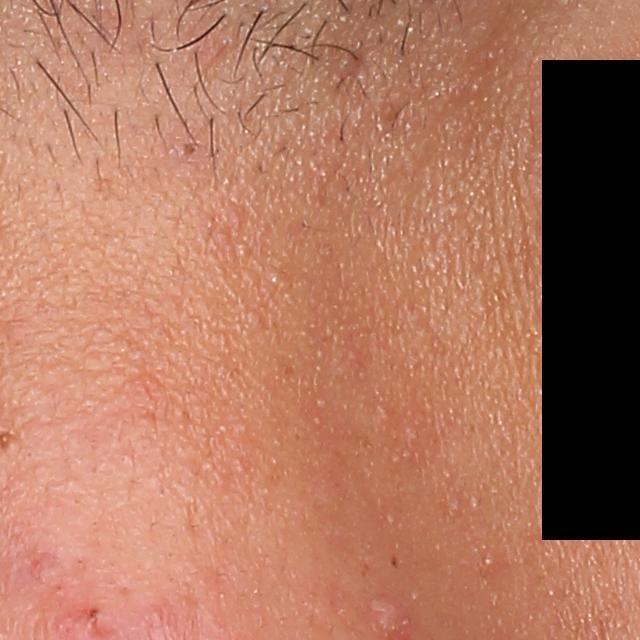comedo: (175, 138, 199, 161)
nevus: (388, 555, 399, 570)
